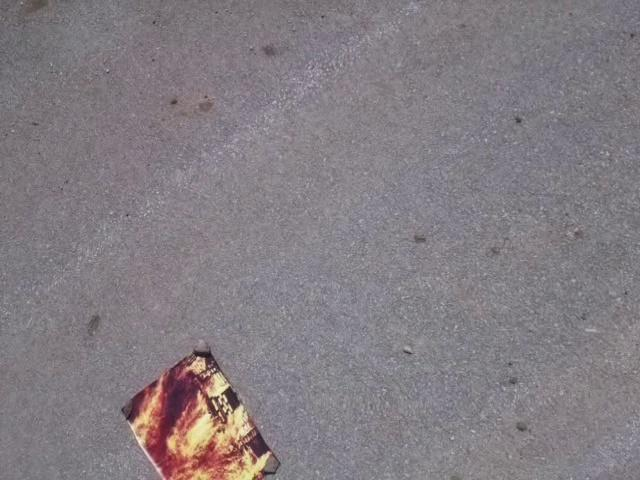fire-poster: (119, 338, 282, 479)
